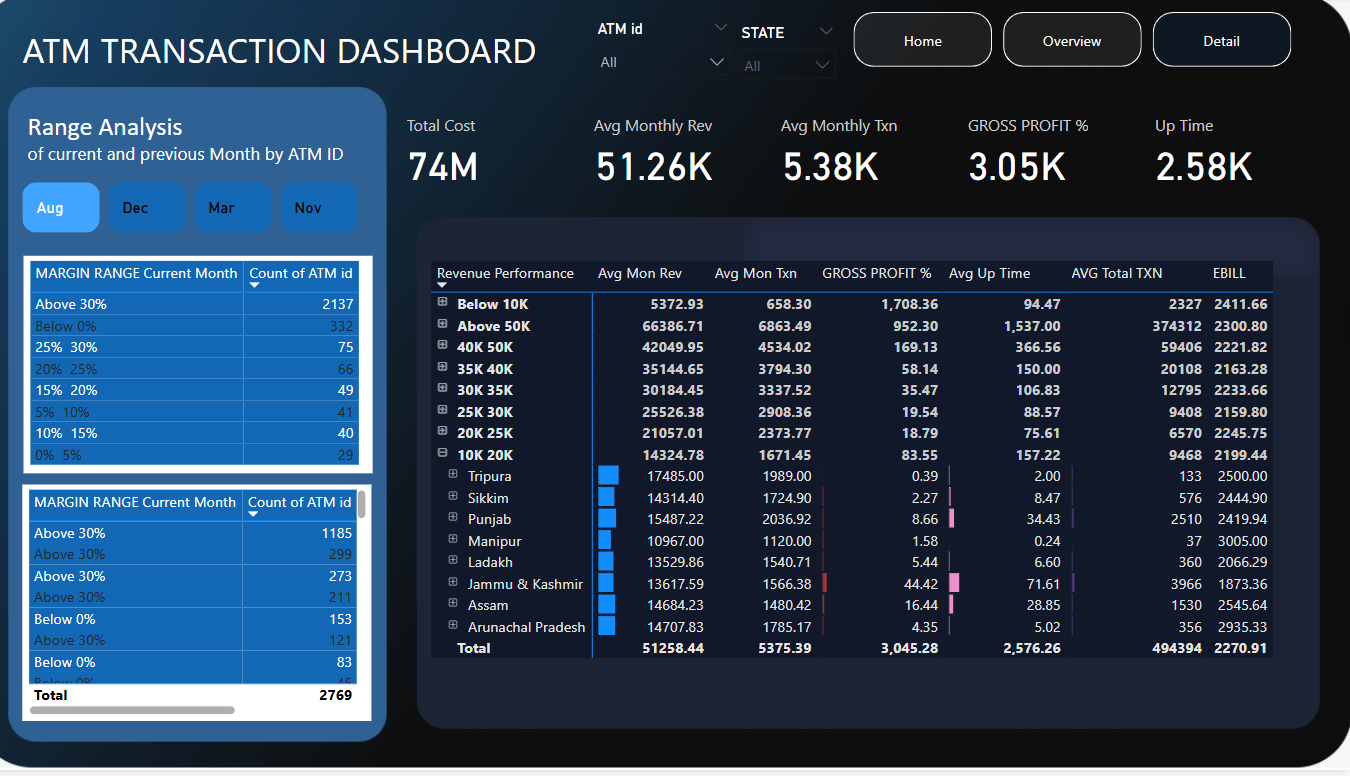

What the dashboard file says about the page in this screenshot:
{"tool":"powerbi","page":{"name":"Detail","canvas":[1280,720],"ordinal":2},"visuals":[{"type":"tableEx","fields":{"Values":["Dataset.MARGIN RANGE Current Month","Dataset.ATM id"]},"box":[44.2,240.5,325.2,202.5],"z":0},{"type":"tableEx","fields":{"Values":["Dataset.MARGIN RANGE Current Month","Dataset.ATM id","Dataset.TXN RANGE Previous Month"]},"box":[42.9,454,325.2,219.6],"z":1000},{"type":"textbox","box":[42.5,100,315,67.5],"z":2000},{"type":"advancedSlicerVisual","fields":{"Values":["Dataset.Short_month"]},"box":[38,166.9,323.9,57.7],"z":3000},{"type":"pivotTable","fields":{"Rows":["Dataset.Revenue Performance","Dataset.STATE","Dataset.ATM id"],"Values":["Avg(Dataset.Monthly Rev)","Avg(Dataset.Monthly Txn)","Sum(Dataset.GROSS PROFIT %)","Sum(Dataset.Up Time)","Sum(Dataset.AVG Total TXN)","Avg(Dataset. EBILL )"]},"box":[418.3,240.2,807.3,418.3],"z":4000},{"type":"cardVisual","fields":{"Data":["Sum(Dataset. Total Cost  )","Avg(Dataset.Monthly Rev)","Avg(Dataset.Monthly Txn)","Sum(Dataset.GROSS PROFIT %)","Sum(Dataset.Up Time)"]},"box":[384.1,85.4,875.6,117.1],"z":5000},{"type":"pageNavigator","box":[816,13.5,409.8,51.5],"z":6000},{"type":"textbox","box":[38.4,22,499.5,54.9],"z":7000},{"type":"slicer","fields":{"Values":["Dataset.ATM id"]},"box":[565.4,16.5,146.8,60.4],"z":7001},{"type":"slicer","fields":{"Values":["Dataset.STATE"]},"box":[698.5,19.2,111.1,67.2],"z":7002}]}

Visuals, with their boxes in screenshot pixels (x1, y1, x2, y2), scaled from the page's 1280x720 canvas onto the 1350x776 screenshot:
tableEx - Dataset.MARGIN RANGE Current Month x Dataset.ATM id: region(47, 259, 390, 477)
tableEx - Dataset.MARGIN RANGE Current Month x Dataset.ATM id: region(45, 489, 388, 726)
textbox: region(45, 108, 377, 181)
advancedSlicerVisual - Dataset.Short_month: region(40, 180, 382, 242)
pivotTable - Dataset.Revenue Performance x Dataset.STATE: region(441, 259, 1293, 710)
cardVisual - Sum(Dataset. Total Cost  ) x Avg(Dataset.Monthly Rev): region(405, 92, 1329, 218)
pageNavigator: region(861, 15, 1293, 70)
textbox: region(40, 24, 567, 83)
slicer - Dataset.ATM id: region(596, 18, 751, 83)
slicer - Dataset.STATE: region(737, 21, 854, 93)
